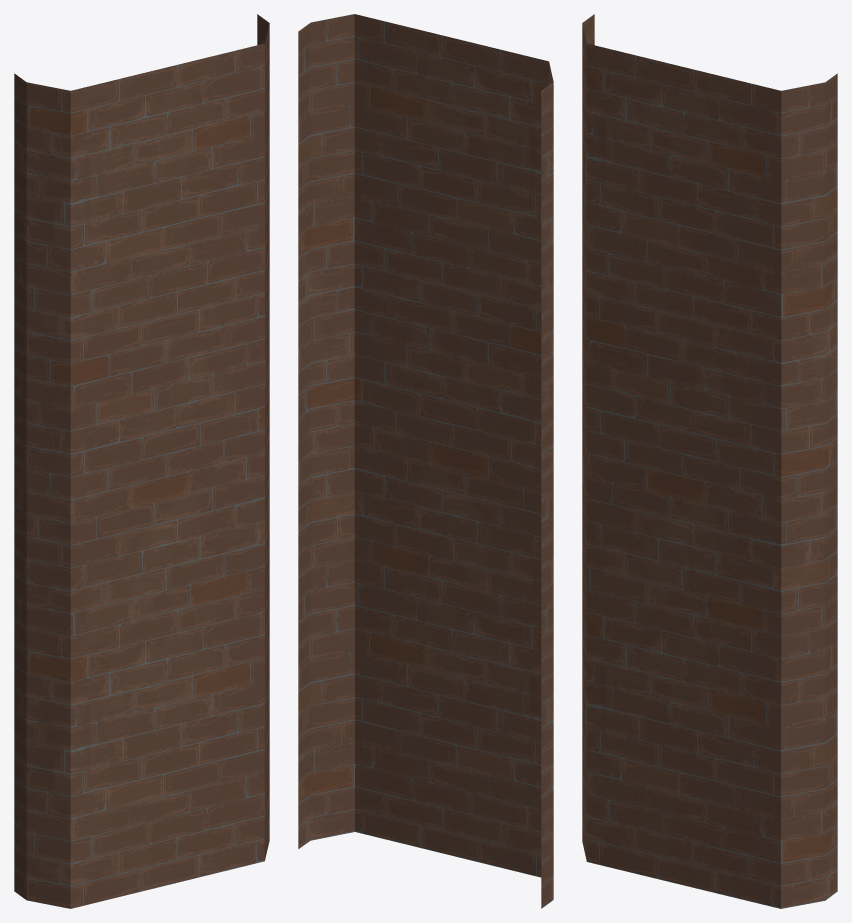
Rendered from Brick_HalfColumn_Center.gltf.
The picture shows the model from 3 angles, left to right: view 1: azimuth 30°, elevation 25°; view 2: azimuth 150°, elevation 25°; view 3: azimuth 330°, elevation 25°; orthographic projection.
Visible parts, largest first — view 1: Brick_HalfColumn_Center; view 2: Brick_HalfColumn_Center; view 3: Brick_HalfColumn_Center.
Part boxes in pixels (x1,y1,x2,y2): Brick_HalfColumn_Center: [14, 14, 269, 908]; Brick_HalfColumn_Center: [298, 14, 553, 908]; Brick_HalfColumn_Center: [582, 14, 837, 908].
Bounding box in the file's own units: 0.9323 × 3 × 0.2132.
Materials: 1 (1 with a texture image).
